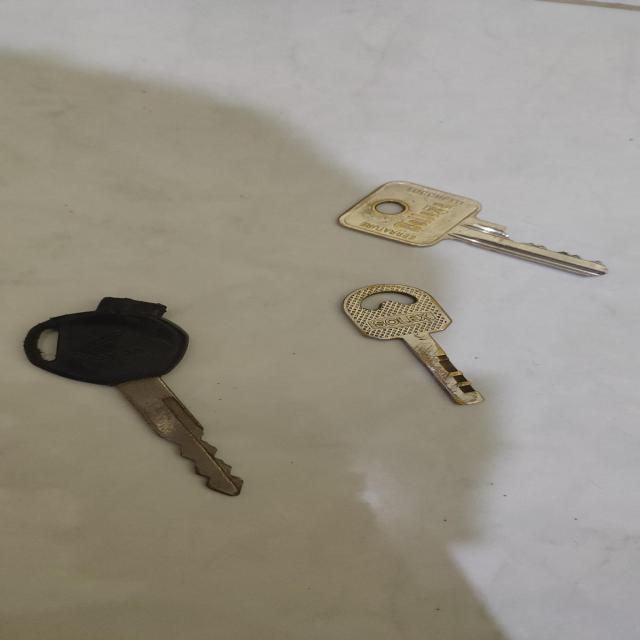kunci_kos: (332, 170, 626, 287)
kunci_motor: (12, 293, 264, 504)
kunci_pagar: (321, 274, 522, 409)
